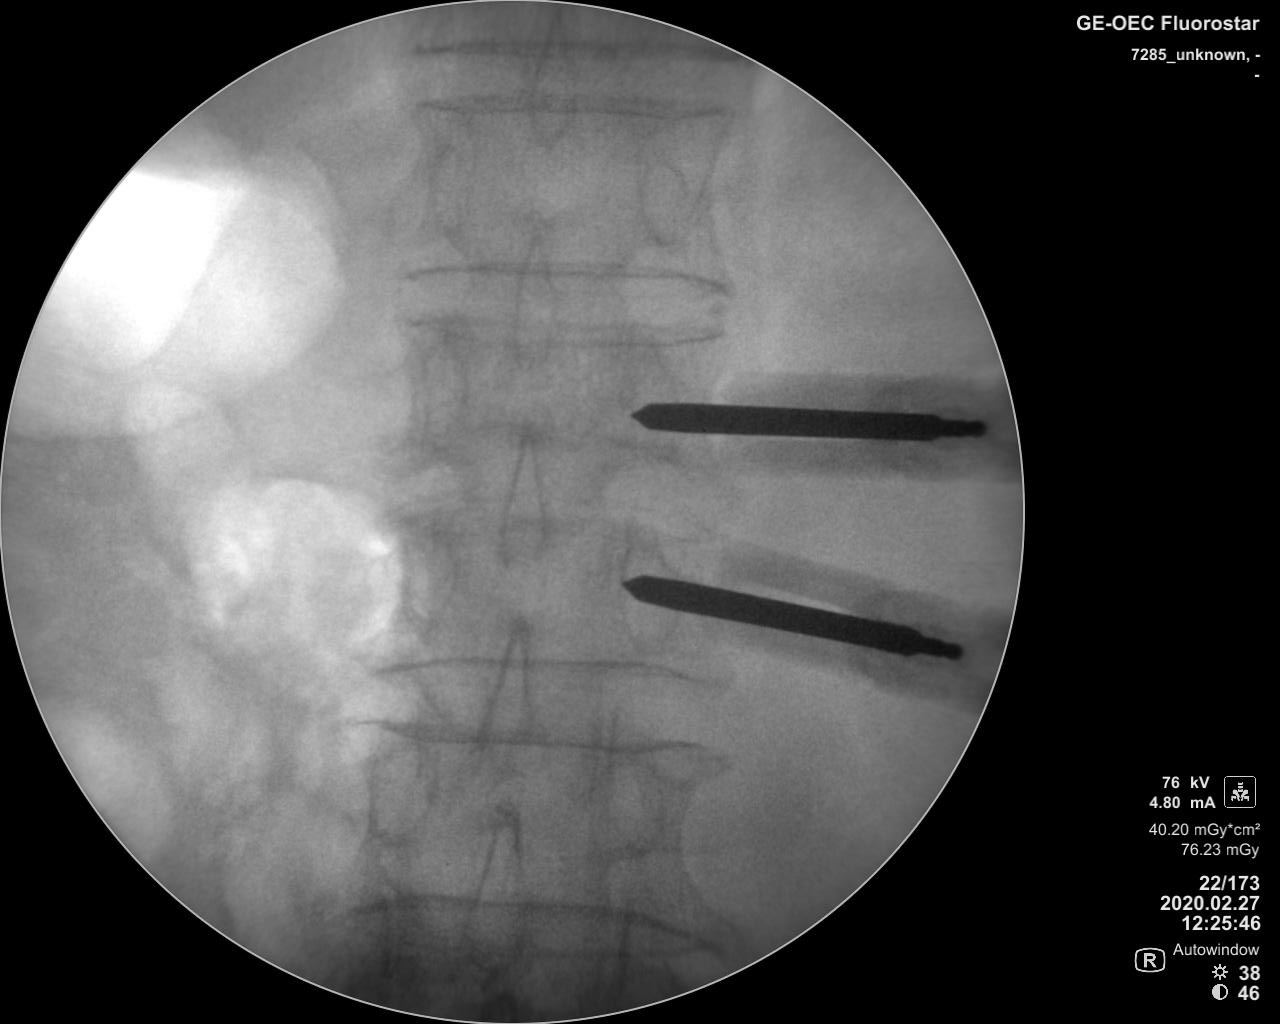eyes: (360, 737, 435, 853), (587, 757, 666, 862), (616, 534, 681, 659), (625, 343, 682, 459), (397, 525, 460, 628), (416, 343, 470, 453), (636, 157, 695, 250)
line: (346, 893, 707, 948), (356, 715, 727, 761), (393, 310, 726, 353), (362, 653, 727, 689), (402, 262, 731, 300), (413, 93, 738, 125), (416, 39, 737, 67)
nose: (460, 802, 532, 978), (475, 606, 537, 776), (496, 419, 554, 571), (523, 11, 581, 147), (507, 234, 559, 372)
